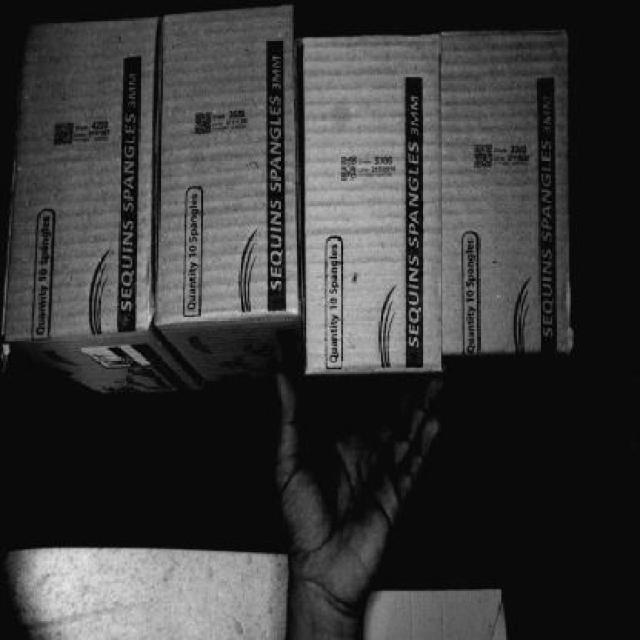cardboxes: (10, 20, 152, 335), (310, 36, 438, 376), (441, 31, 572, 351), (162, 22, 298, 329)
